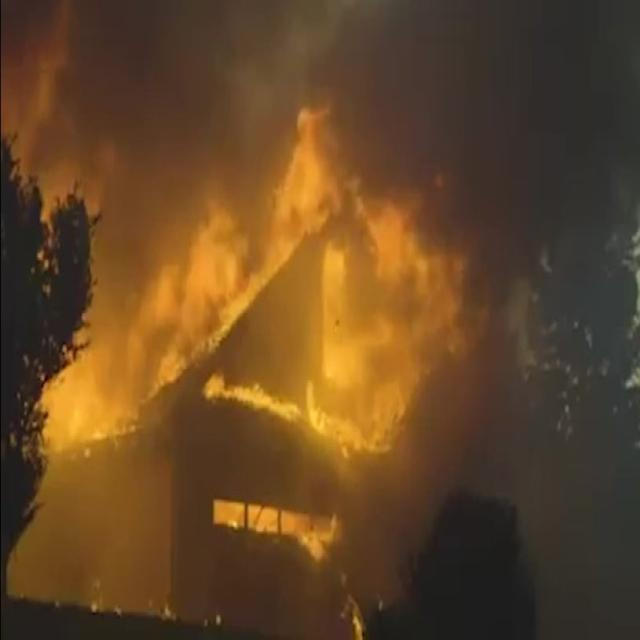Fire: (43, 112, 477, 548)
Smoke: (26, 8, 640, 101)
